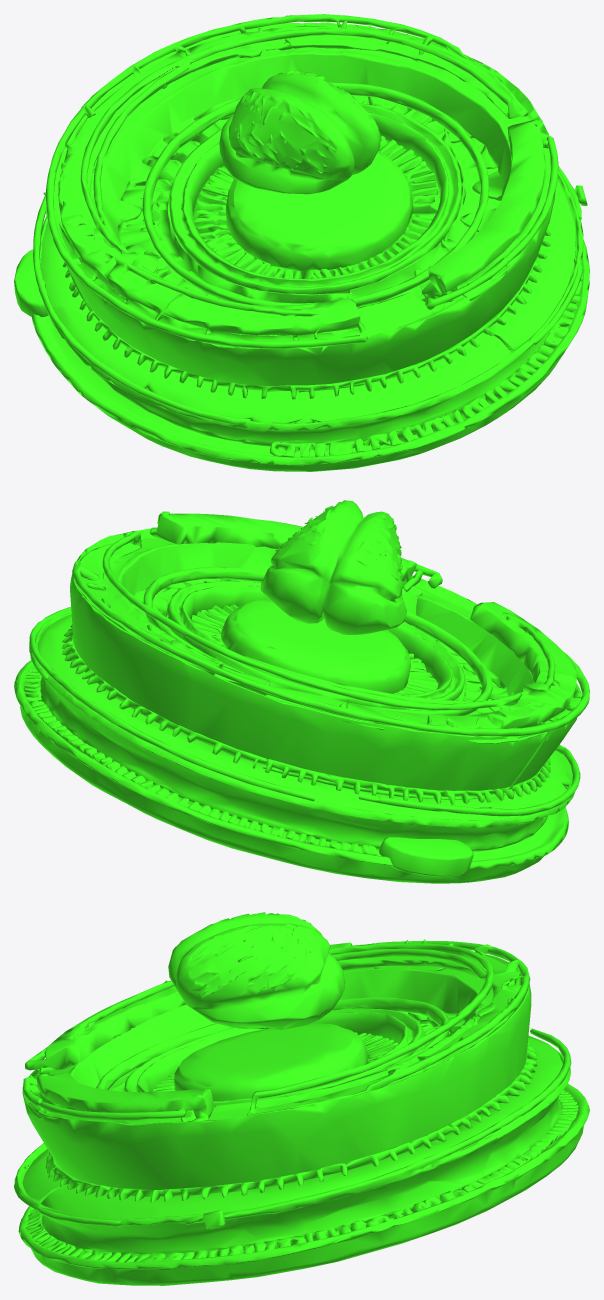
The model's file is ai-automation.glb.
3 views of the same model, one above another, from view 1: azimuth 30°, elevation 25°; view 2: azimuth 150°, elevation 25°; view 3: azimuth 270°, elevation 25° (orthographic). The views are drawn at different scales.
Parts seen in each view (by area): view 1: tripo_part_2; view 2: tripo_part_2; view 3: tripo_part_2.
Boxes of the visible parts, box(x1,y1,x2,y2) form: tripo_part_2: box(14, 14, 589, 471); tripo_part_2: box(14, 500, 589, 883); tripo_part_2: box(14, 912, 589, 1285).
Bounding box in the file's own units: 0.6501 × 0.3949 × 0.6329.
